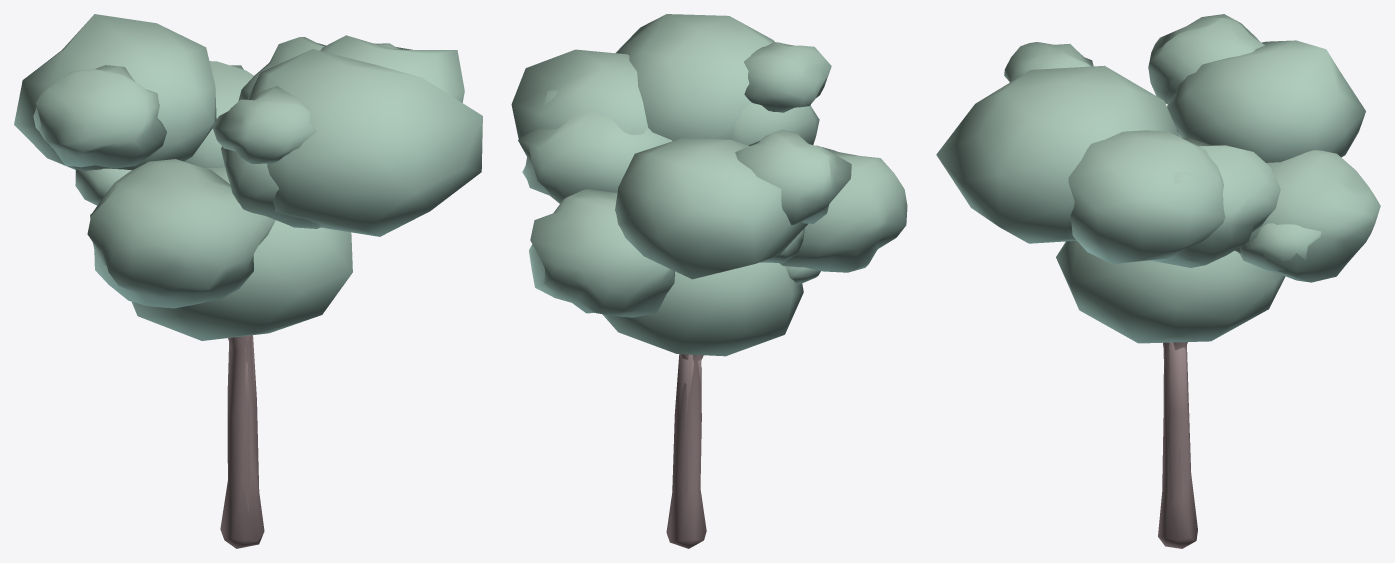
File: elm.glb
3 views of the same model, side by side, from view 1: azimuth 30°, elevation 25°; view 2: azimuth 150°, elevation 25°; view 3: azimuth 270°, elevation 25° (orthographic). The views are drawn at different scales.
Parts seen in each view (by area): view 1: far, near; view 2: far, near; view 3: far, near.
Boxes of the visible parts, x1,y1,x2,y2 form: far: (14, 14, 482, 512); near: (33, 37, 399, 548); far: (511, 14, 810, 504); near: (518, 42, 907, 548); far: (936, 40, 1365, 504); near: (1004, 14, 1380, 548).
Bounding box in the file's own units: 11.33 × 14.42 × 12.05.
